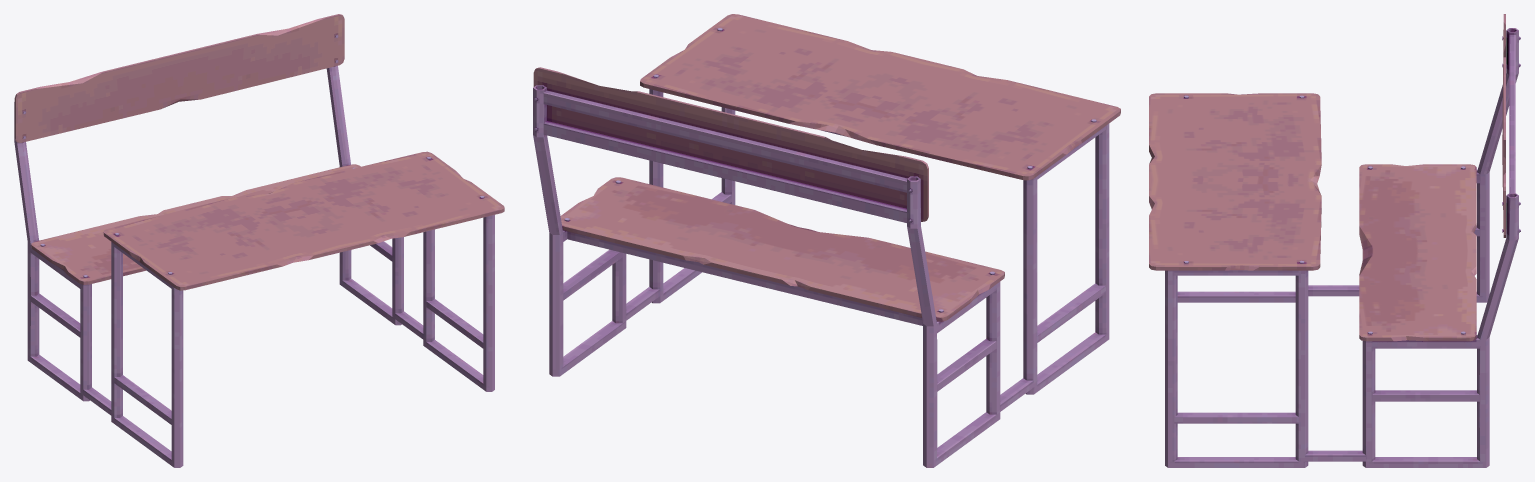
File: pupitre.glb
3 renders of one model, left to right at view 1: azimuth 30°, elevation 25°; view 2: azimuth 150°, elevation 25°; view 3: azimuth 270°, elevation 25°, orthographic. The views are drawn at different scales.
Parts seen in each view (by area): view 1: Desk; view 2: Desk; view 3: Desk.
Boxes of the visible parts, left/top/right/bottom form: Desk: left=14, top=14, right=504, bottom=467; Desk: left=533, top=14, right=1120, bottom=467; Desk: left=1149, top=14, right=1520, bottom=467.
Bounding box in the file's own units: 2.11 × 1.6 × 1.9.
Materials: 1 (1 with a texture image).
